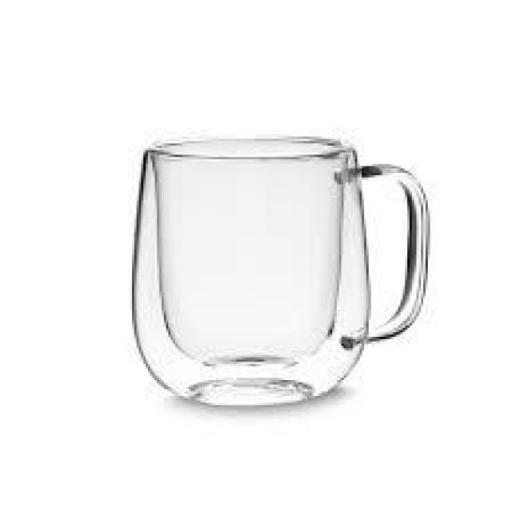glass: (108, 116, 440, 430)
